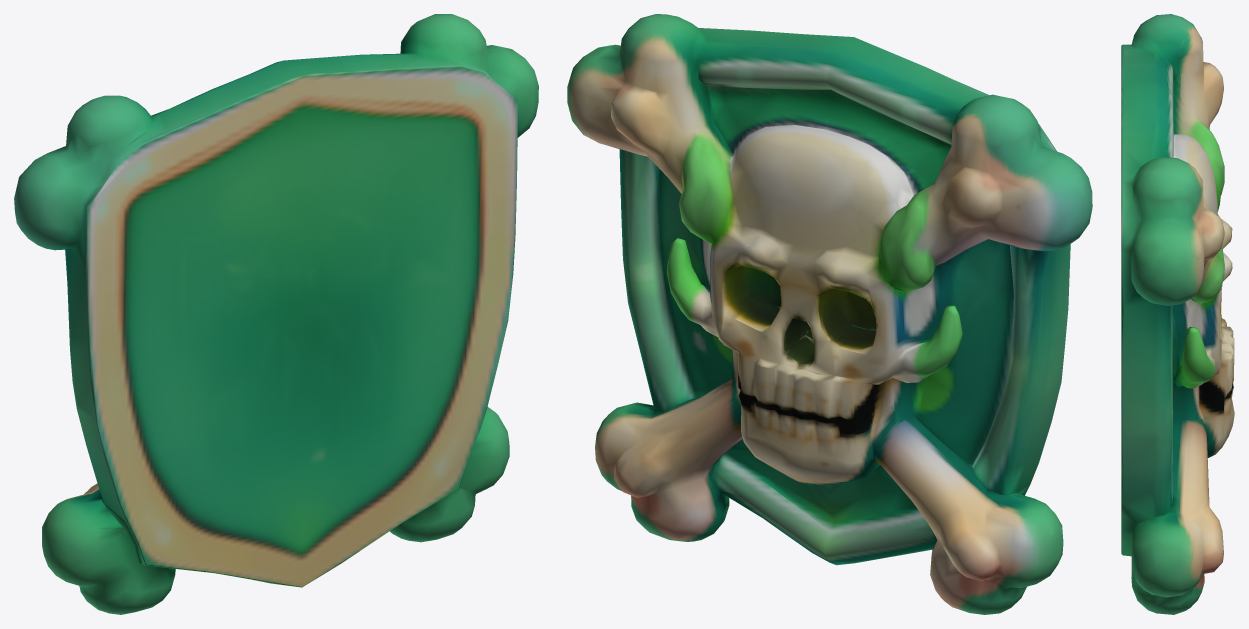
3 views of the same model, side by side, from view 1: azimuth 30°, elevation 25°; view 2: azimuth 150°, elevation 25°; view 3: azimuth 270°, elevation 25° (orthographic). The views are drawn at different scales.
Parts seen in each view (by area): view 1: necromancer; view 2: necromancer; view 3: necromancer.
Boxes of the visible parts, bbox=[...] form: necromancer: bbox=[14, 14, 538, 614]; necromancer: bbox=[567, 14, 1092, 614]; necromancer: bbox=[1121, 14, 1234, 614].
Bounding box in the file's own units: 0.56 × 0.5396 × 0.1215.
Materials: 1 (1 with a texture image).
